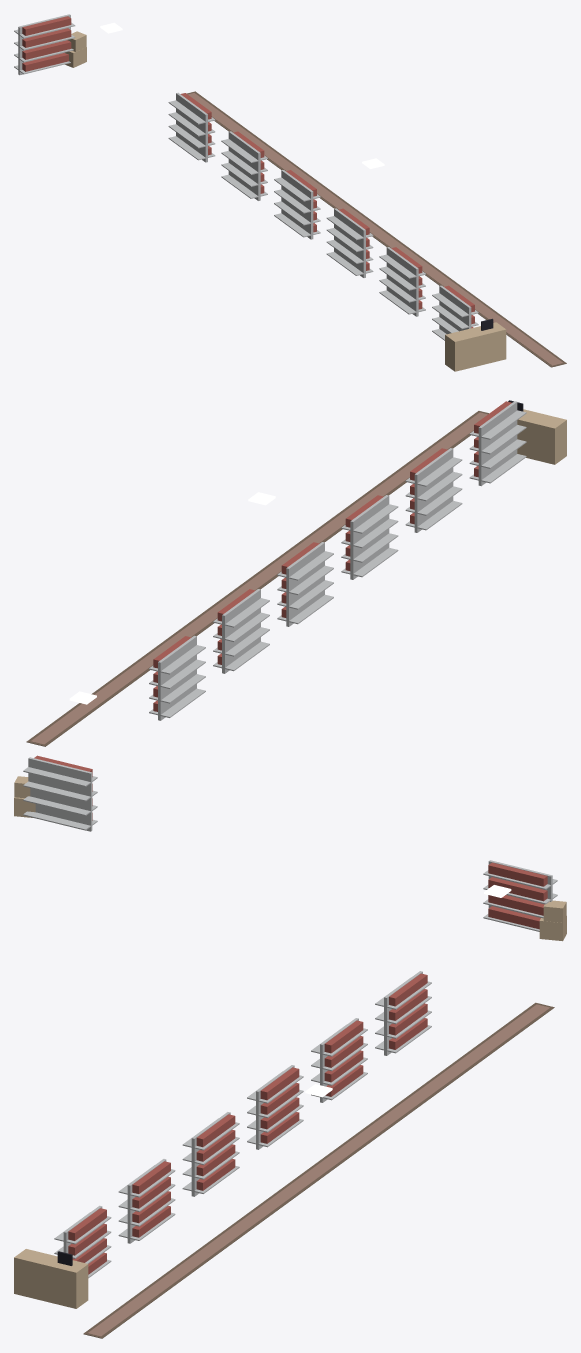
File: fine-s0.glb
3 renders of one model, top to bottom at view 1: azimuth 30°, elevation 25°; view 2: azimuth 150°, elevation 25°; view 3: azimuth 330°, elevation 25°, orthographic. The views are drawn at different scales.
Visible parts, largest first — view 1: soft-s0, shelving.000, shop-counter.000, shelf.004, shelf.001, shelf.000, shelf.003, shelf.002, shelf.005, cardboard-box.000; view 2: soft-s0, shelving.000, shelf.003, shelf.005, shelf.004, shelf.002, shelf.000, shelf.001, shop-counter.000, cardboard-box.000; view 3: soft-s0, shop-counter.000, shelving.000, shelf.003, shelf.002, shelf.000, shelf.004, shelf.001, shelf.005, cardboard-box.000.
Part boxes in pixels (left/top/right/bottom): soft-s0: left=186, top=91, right=566, bottom=367; shelving.000: left=14, top=14, right=75, bottom=75; shop-counter.000: left=445, top=318, right=506, bottom=371; shelf.004: left=379, top=247, right=425, bottom=316; shelf.001: left=221, top=131, right=267, bottom=200; shelf.000: left=168, top=92, right=215, bottom=162; shelf.003: left=326, top=208, right=373, bottom=277; shelf.002: left=274, top=170, right=320, bottom=239; shelf.005: left=432, top=285, right=478, bottom=340; cardboard-box.000: left=64, top=31, right=86, bottom=67; soft-s0: left=26, top=411, right=488, bottom=746; shelving.000: left=23, top=755, right=97, bottom=831; shelf.003: left=341, top=495, right=398, bottom=579; shelf.005: left=469, top=401, right=526, bottom=486; shelf.004: left=405, top=448, right=462, bottom=532; shelf.002: left=277, top=542, right=333, bottom=626; shelf.000: left=149, top=635, right=205, bottom=720; shelf.001: left=213, top=589, right=269, bottom=673; shop-counter.000: left=508, top=400, right=566, bottom=464; cardboard-box.000: left=14, top=776, right=35, bottom=817; soft-s0: left=83, top=1002, right=554, bottom=1338; shop-counter.000: left=14, top=1249, right=88, bottom=1308; shelving.000: left=483, top=860, right=557, bottom=931; shelf.003: left=182, top=1112, right=239, bottom=1196; shelf.002: left=247, top=1065, right=303, bottom=1149; shelf.000: left=375, top=971, right=431, bottom=1055; shelf.004: left=118, top=1159, right=175, bottom=1243; shelf.001: left=311, top=1018, right=367, bottom=1102; shelf.005: left=54, top=1205, right=111, bottom=1278; cardboard-box.000: left=539, top=900, right=566, bottom=941.
Size of the model in its own units: 4.04 by 2.24 by 26.61.
